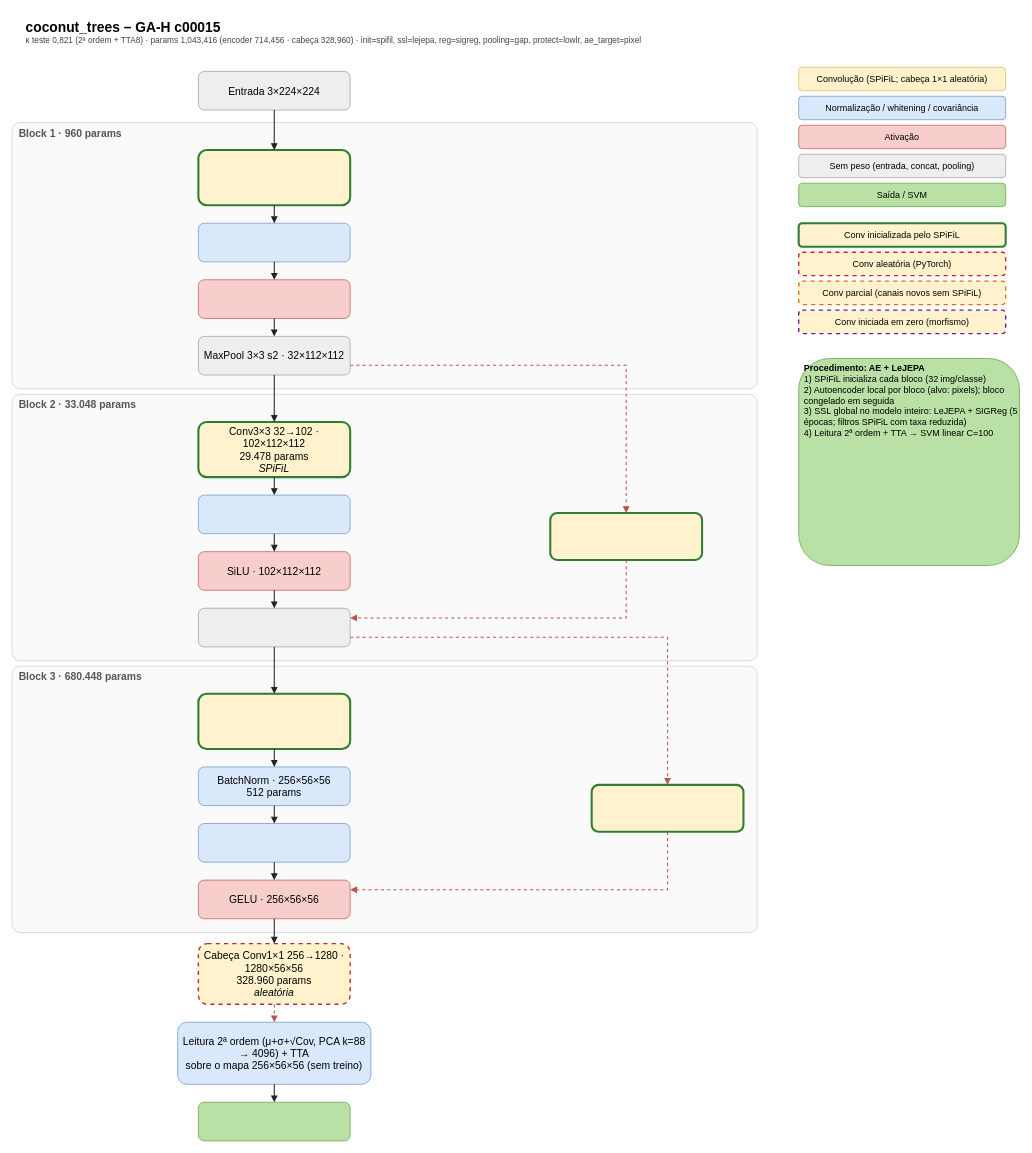
The diagram is 1032 pixels wide and 1153 high, and some of its shapes have lost their labels. Here are the shapes that lost their labels. From the top down, the centre of each, then its label:
At (274,177): "Conv3×3 3→32 · 32×224×224 896 params SPiFiL".
At (274,242): "DBN · 32×224×224 64 params".
At (274,298): "GELU · 32×224×224".
At (274,514): "DBN · 102×112×112 204 params".
At (626,536): "Residual Conv1×1 32→102 102×112×112 SPiFiL".
At (274,627): "MaxPool 3×3 s2 · 102×56×56".
At (274,721): "Conv5×5 102→256 · 256×56×56 653.056 params SPiFiL".
At (667,807): "Residual Conv1×1 102→256 256×56×56 SPiFiL".
At (274,842): "DBN · 256×56×56 512 params".
At (274,1121): "SVM linear C=100 (teste)".
